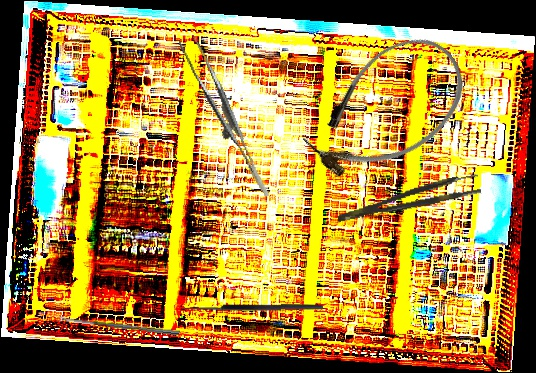Cannula: (289, 19, 484, 200)
Hook Surgical: (180, 302, 324, 320)
Surgical Spoon: (57, 315, 180, 336)
Tissue Forceps: (178, 29, 270, 208), (334, 172, 482, 224)
